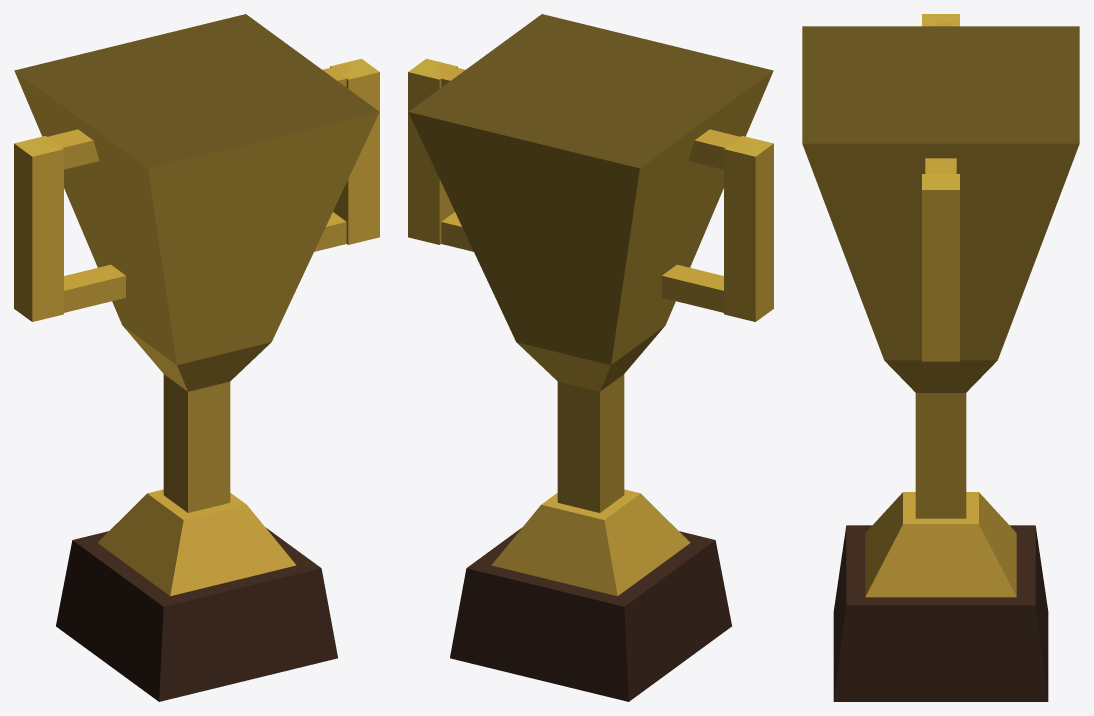
The model's file is trophy.glb.
3 renders of one model, left to right at view 1: azimuth 30°, elevation 25°; view 2: azimuth 150°, elevation 25°; view 3: azimuth 270°, elevation 25°, orthographic. The views are drawn at different scales.
Visible parts, largest first — view 1: trophy; view 2: trophy; view 3: trophy.
Part boxes in pixels (box(x1,y1,x2,y2)): trophy: box(14, 14, 379, 701); trophy: box(408, 14, 773, 701); trophy: box(802, 14, 1079, 701).
Size of the model in its own units: 0.33 by 0.5 by 0.22.
